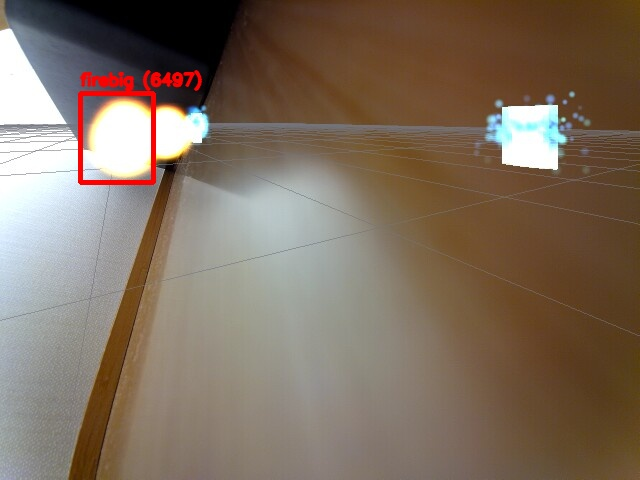firebig: (80, 93, 153, 182)
